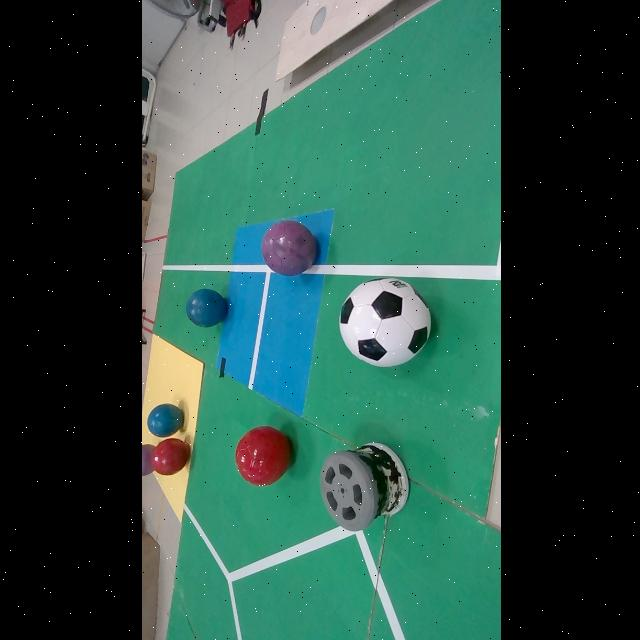B: (184, 289, 225, 327), (146, 404, 181, 437)
P: (260, 221, 315, 276), (140, 444, 152, 475)
R: (234, 427, 290, 486), (149, 439, 188, 475)
